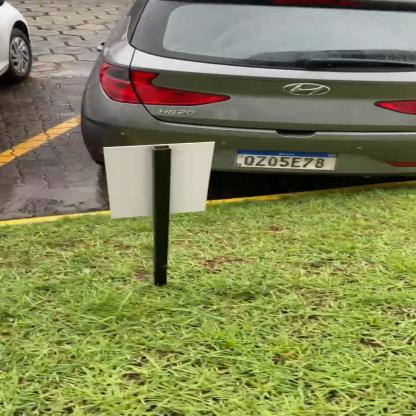Plate: (232, 145, 344, 175)
